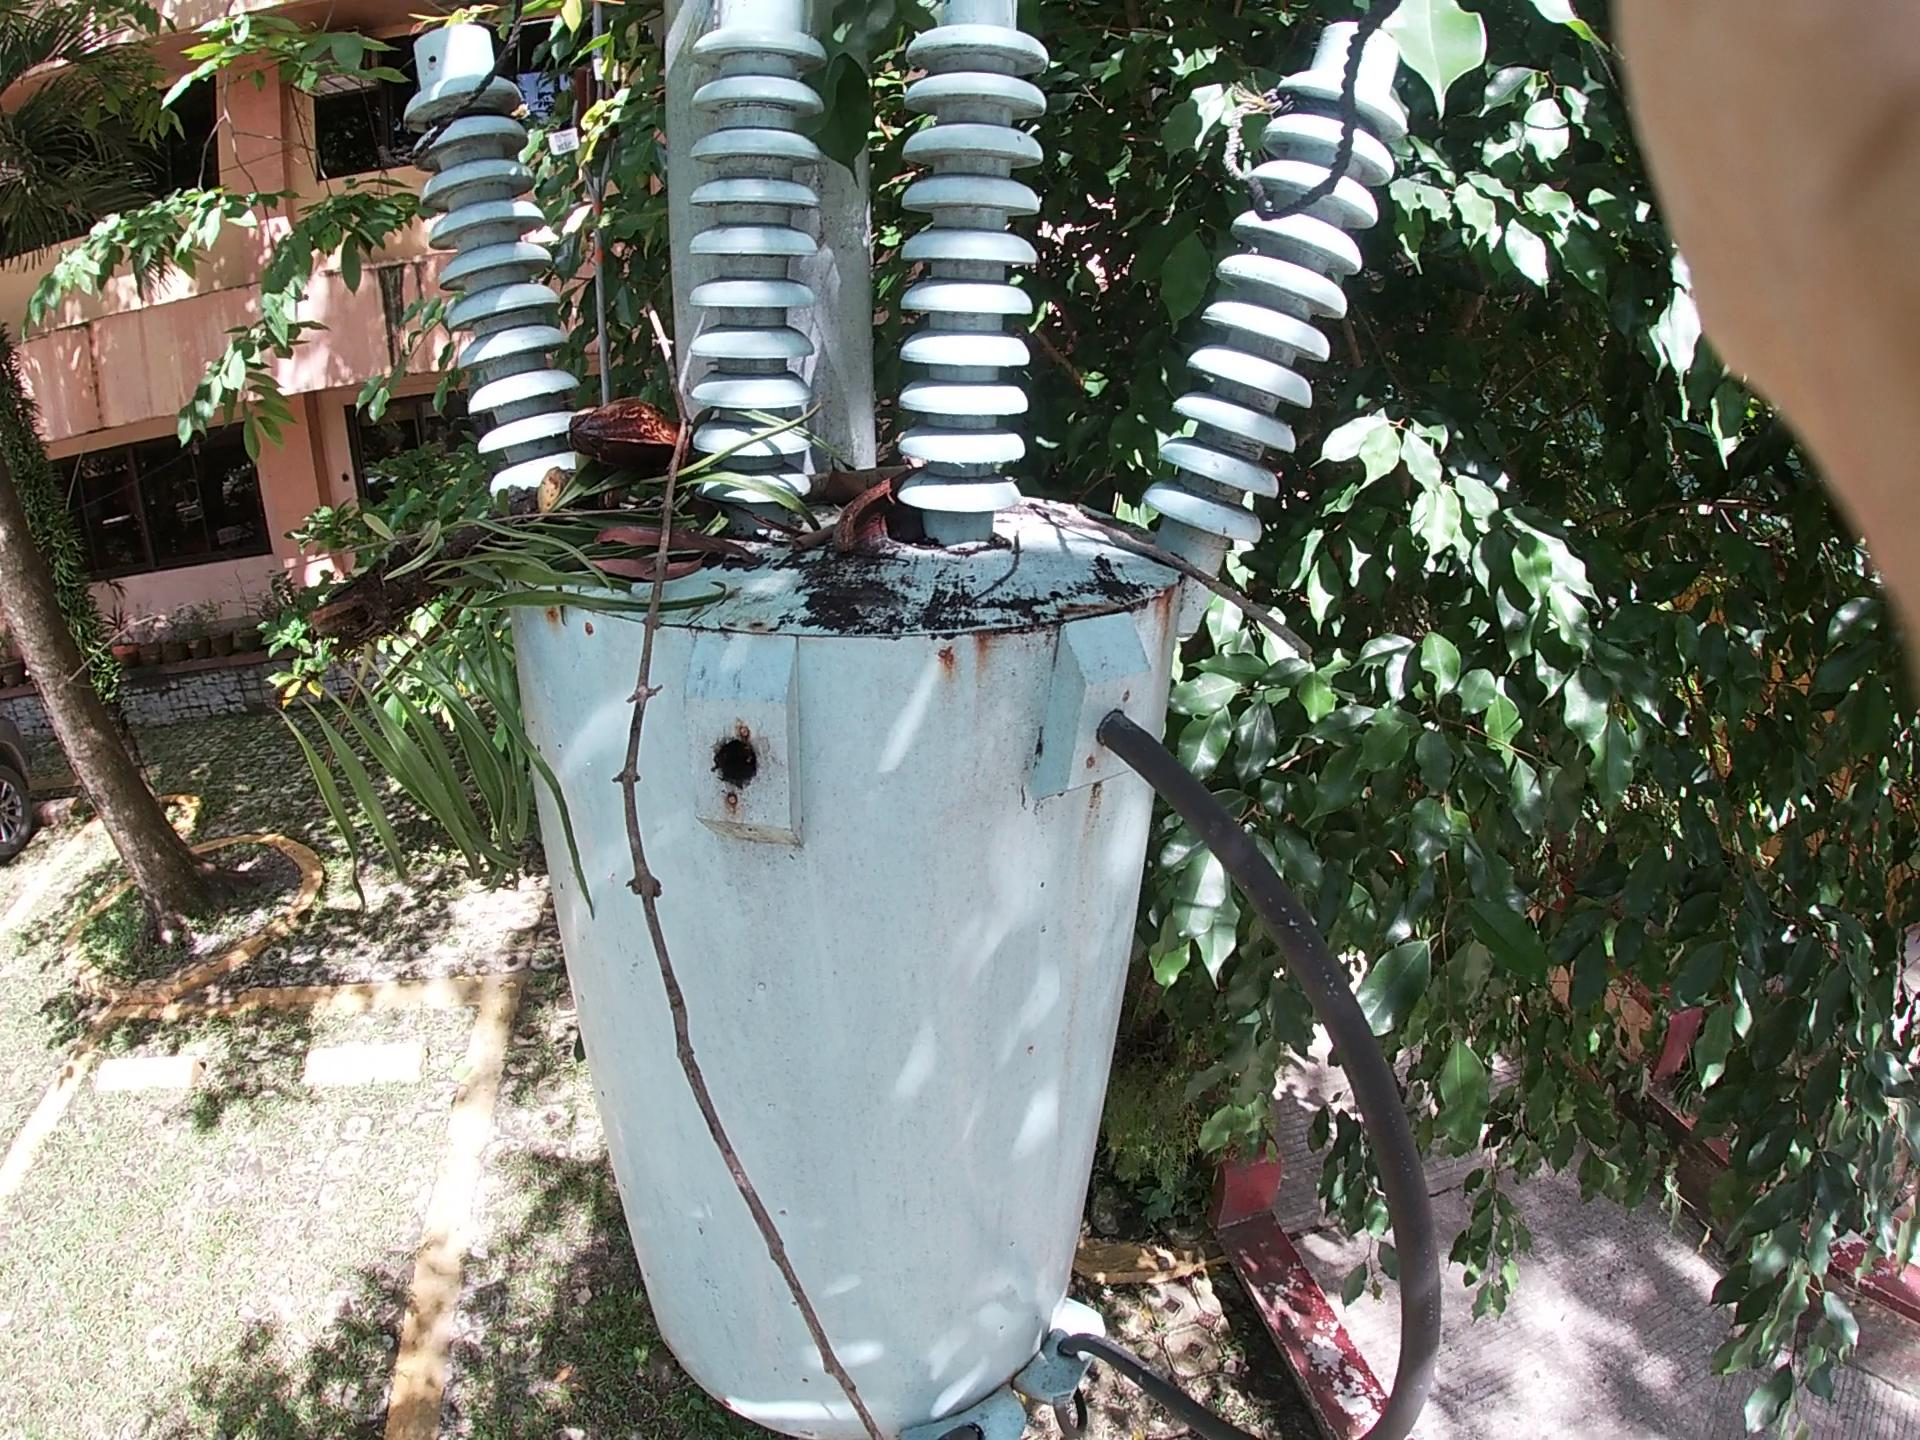branch with leaves: (177, 333, 921, 817)
leaf: (608, 507, 741, 613)
mahogany fruit: (544, 355, 736, 504), (773, 446, 934, 545)
tree branch: (621, 225, 993, 1440), (1011, 455, 1407, 800), (754, 417, 868, 649)
